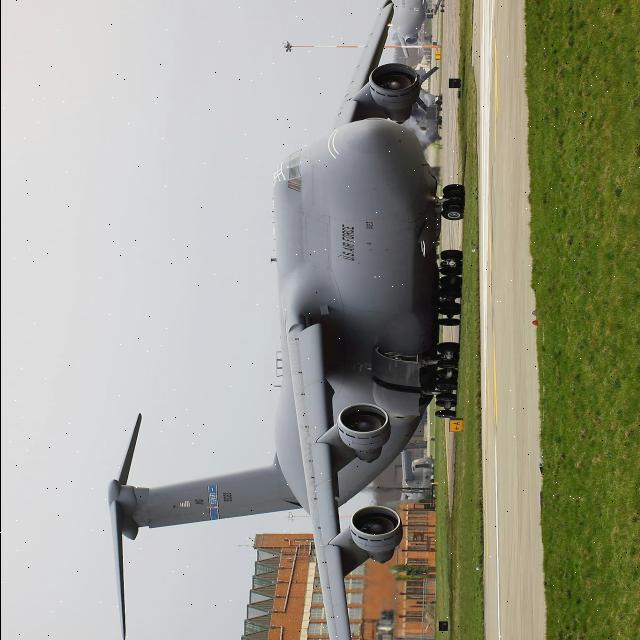C5: (53, 0, 550, 640)
